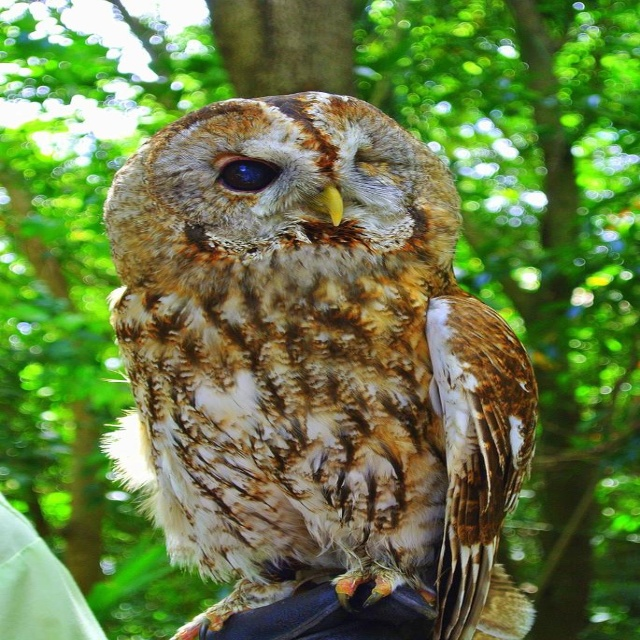Owl: (100, 89, 538, 640)
